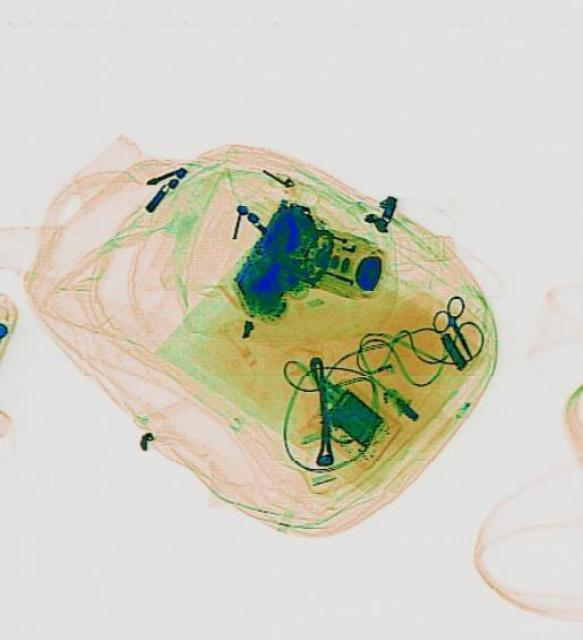Scissors: (421, 292, 488, 368)
